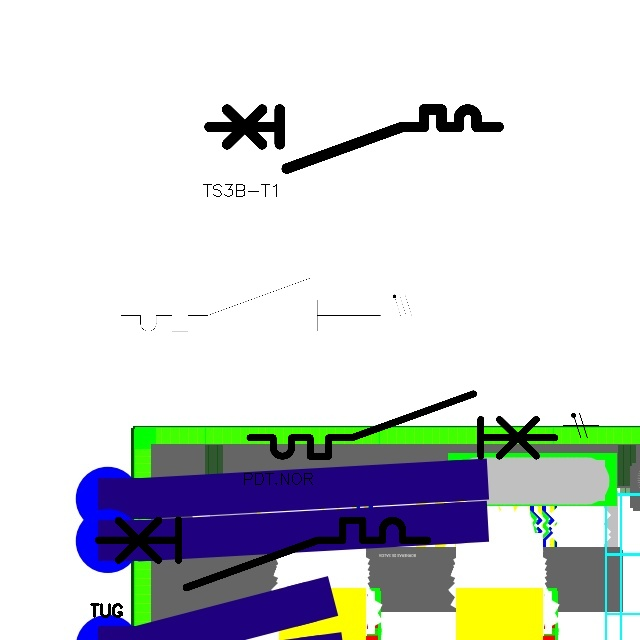interruptor_termomagnetico: (90, 512, 436, 596), (242, 386, 562, 464), (202, 102, 506, 176), (114, 271, 387, 338)
